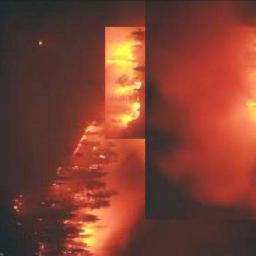Heavy smoke: (147, 0, 255, 210)
Large fire: (6, 123, 138, 255), (106, 23, 146, 137)
